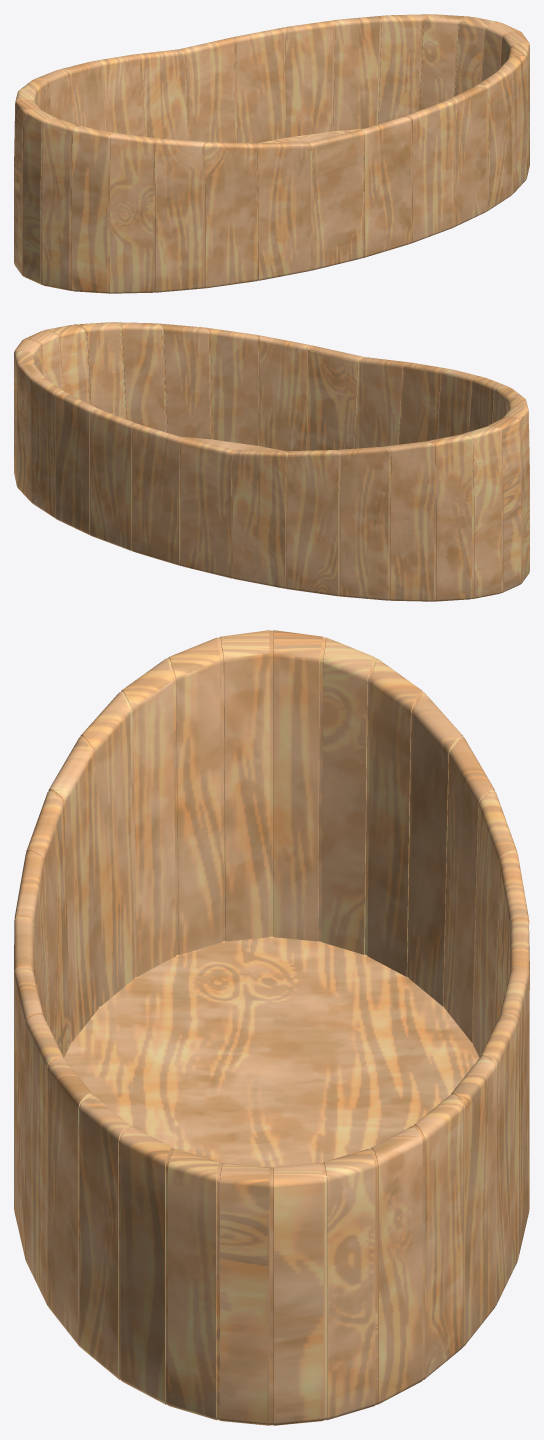
Rendered from House_Bathtub_v01.fbx.
3 renders of one model, top to bottom at view 1: azimuth 30°, elevation 25°; view 2: azimuth 150°, elevation 25°; view 3: azimuth 270°, elevation 25°, orthographic. The views are drawn at different scales.
Visible parts, largest first — view 1: Bathtub; view 2: Bathtub; view 3: Bathtub.
Part boxes in pixels (left/top/right/bottom): Bathtub: left=14, top=14, right=529, bottom=293; Bathtub: left=14, top=322, right=529, bottom=601; Bathtub: left=14, top=630, right=529, bottom=1425.
Bounding box in the file's own units: 259 × 119 × 82.85.
Materials: 1 (1 with a texture image).
